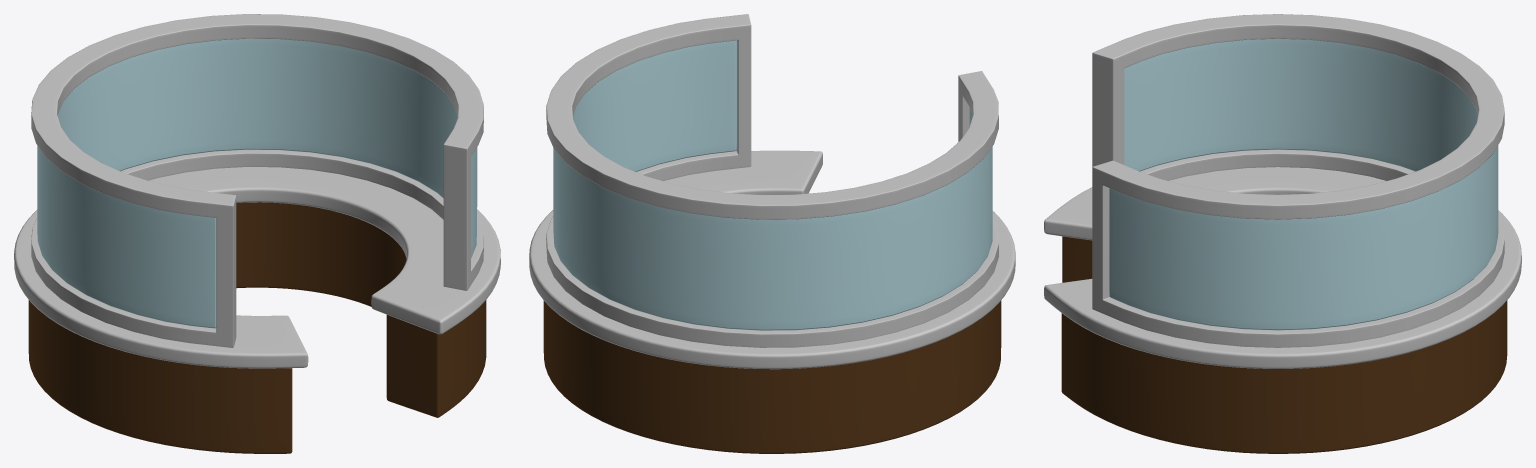
File: CentroDeSeguridad.fbx
3 renders of one model, left to right at view 1: azimuth 30°, elevation 25°; view 2: azimuth 150°, elevation 25°; view 3: azimuth 270°, elevation 25°, orthographic.
Visible parts, largest first — view 1: BaseEscritorioSeguridad, VidrioSeguridad, MarcoVidrioSeguridad; view 2: VidrioSeguridad, BaseEscritorioSeguridad, MarcoVidrioSeguridad; view 3: VidrioSeguridad, BaseEscritorioSeguridad, MarcoVidrioSeguridad.
Part boxes in pixels (x1,y1,x2,y2): BaseEscritorioSeguridad: (14, 167, 500, 453); VidrioSeguridad: (37, 38, 477, 328); MarcoVidrioSeguridad: (31, 14, 483, 347); VidrioSeguridad: (553, 40, 992, 330); BaseEscritorioSeguridad: (529, 150, 1015, 453); MarcoVidrioSeguridad: (546, 14, 998, 347); VidrioSeguridad: (1109, 38, 1498, 330); BaseEscritorioSeguridad: (1044, 167, 1521, 453); MarcoVidrioSeguridad: (1092, 14, 1504, 347).
Bounding box in the file's own units: 10.94 × 6.16 × 10.72.
